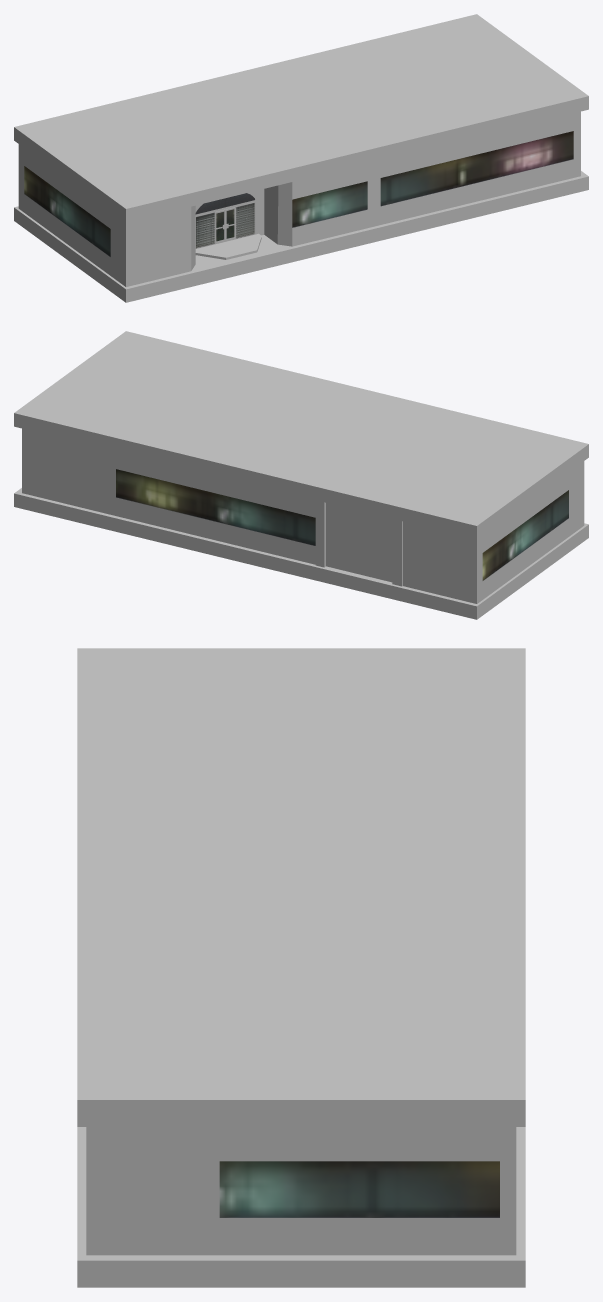
The model's file is hirise_ent03a.fbx.
3 views of the same model, one above another, from view 1: azimuth 30°, elevation 25°; view 2: azimuth 150°, elevation 25°; view 3: azimuth 270°, elevation 25° (orthographic). The views are drawn at different scales.
Visible parts, largest first — view 1: hirise_ent03a; view 2: hirise_ent03a; view 3: hirise_ent03a.
Boxes of the visible parts, left/top/right/bottom form: hirise_ent03a: left=14, top=14, right=588, bottom=302; hirise_ent03a: left=14, top=331, right=588, bottom=619; hirise_ent03a: left=77, top=648, right=525, bottom=1287.
Size of the model in its own units: 31.64 by 6.13 by 13.26.
